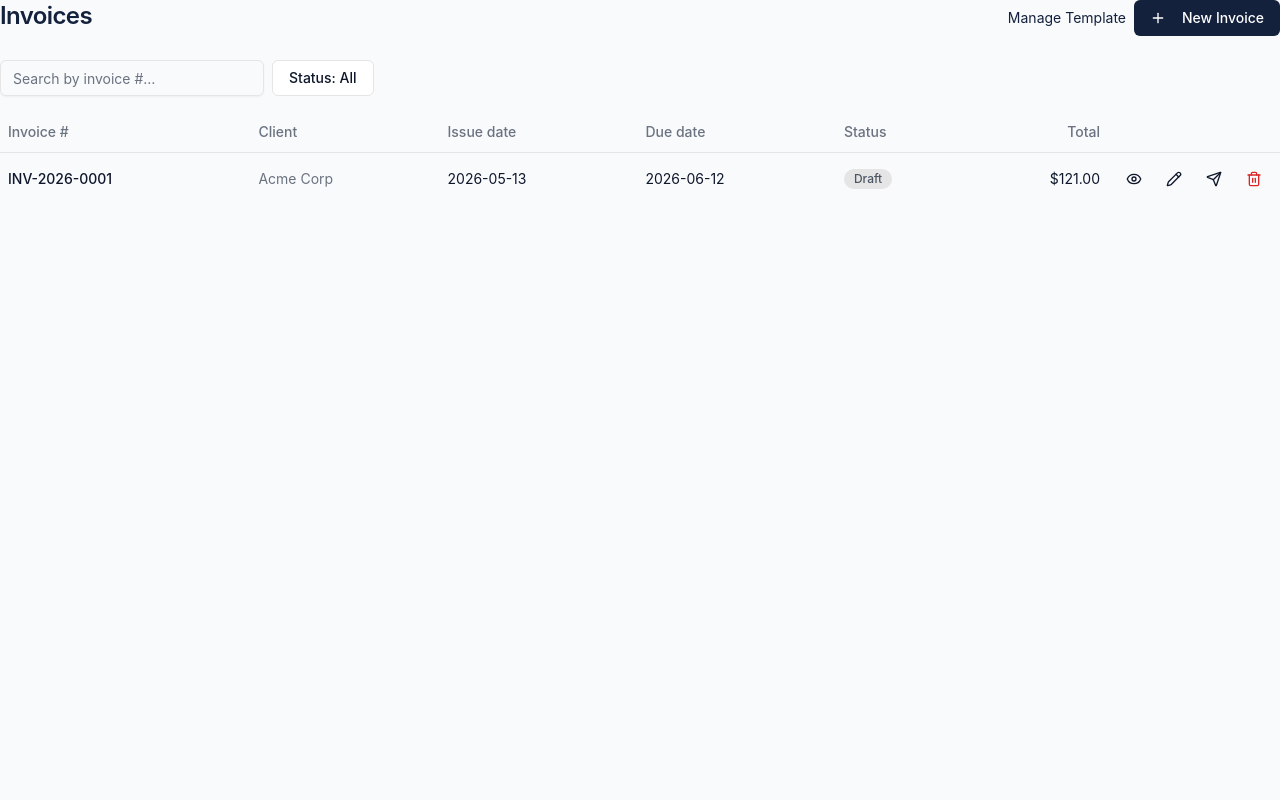
InvoicesListPage › handleConfirmDelete: cancel hides dialog
Click the button with test id "btn-delete-inv-uuid-1" at (1254, 178), box top-left (1236, 160), bottom-right (1272, 196)
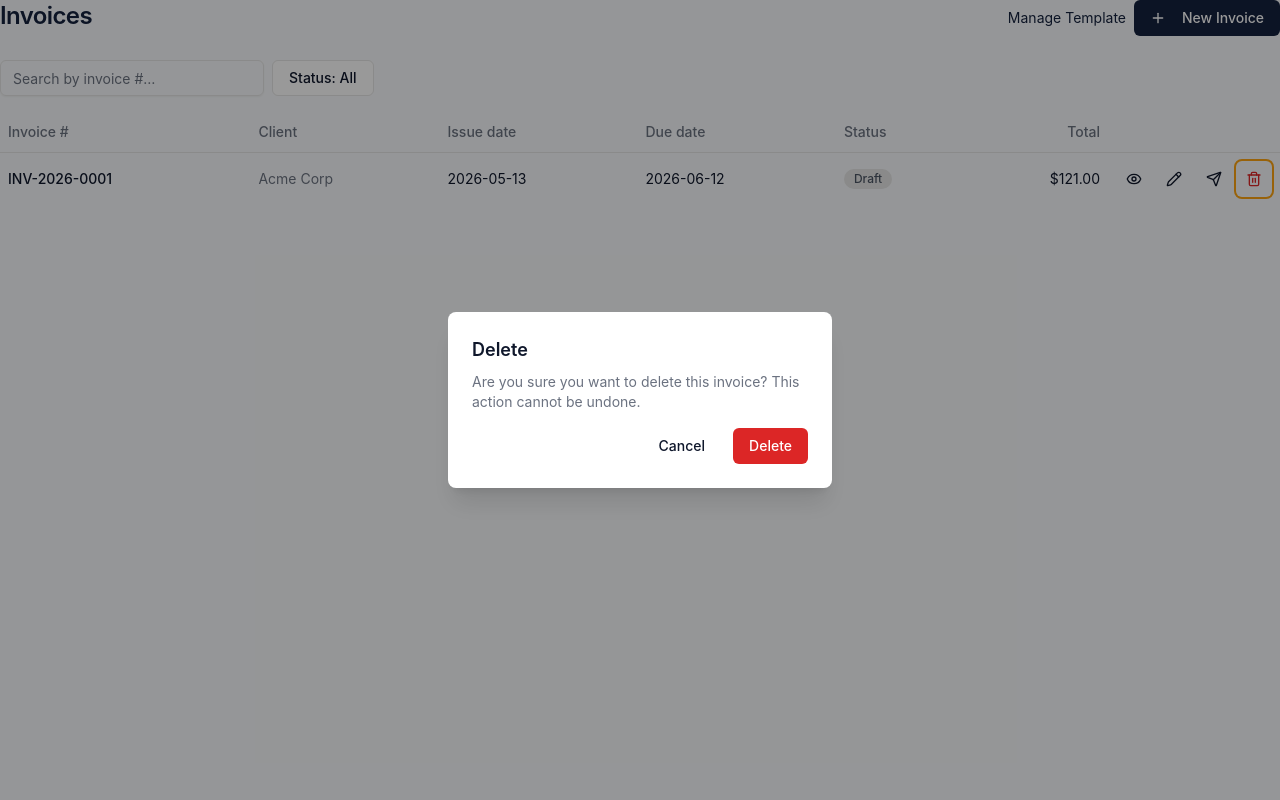
Check: the dialog with test id "confirm-delete-dialog" is shown, box top-left (448, 312), bottom-right (832, 488)
Click the button with test id "btn-cancel-delete" at (682, 446), box top-left (643, 428), bottom-right (721, 464)
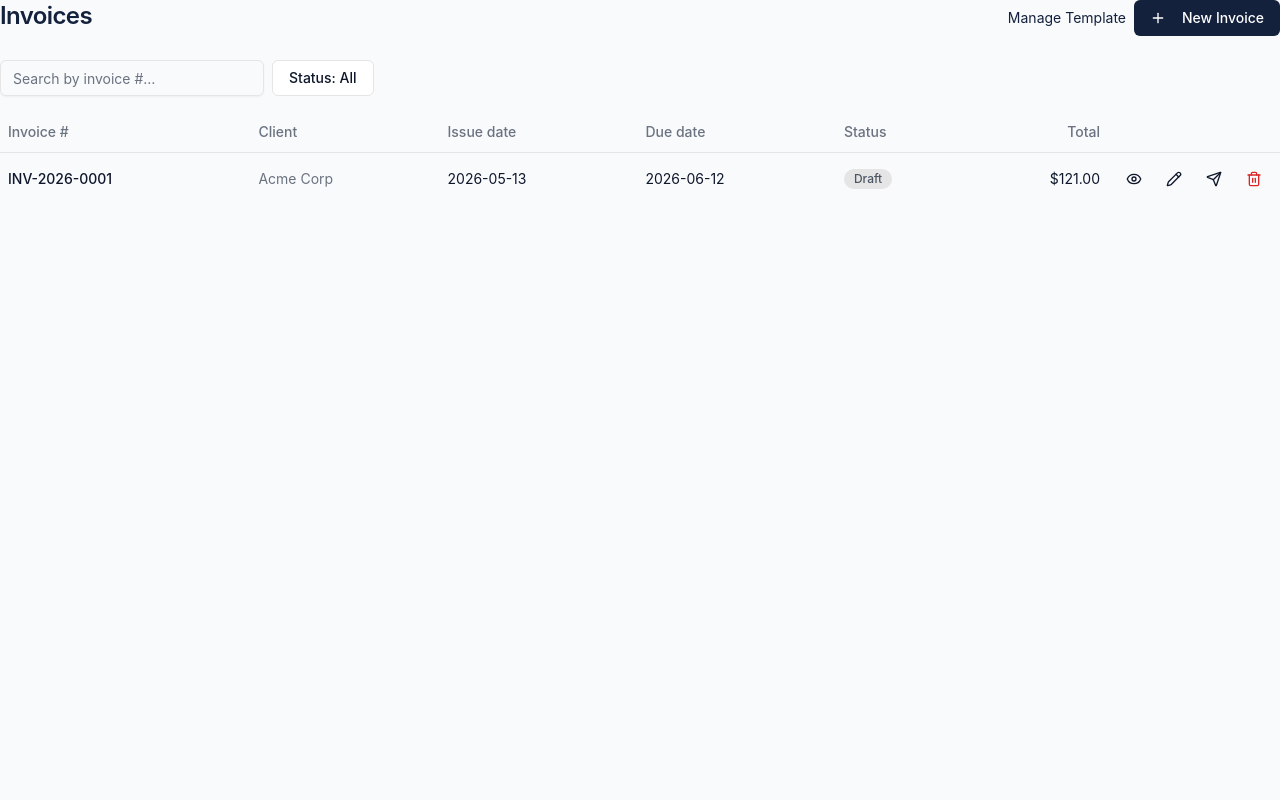
Check: the dialog with test id "confirm-delete-dialog" is gone
